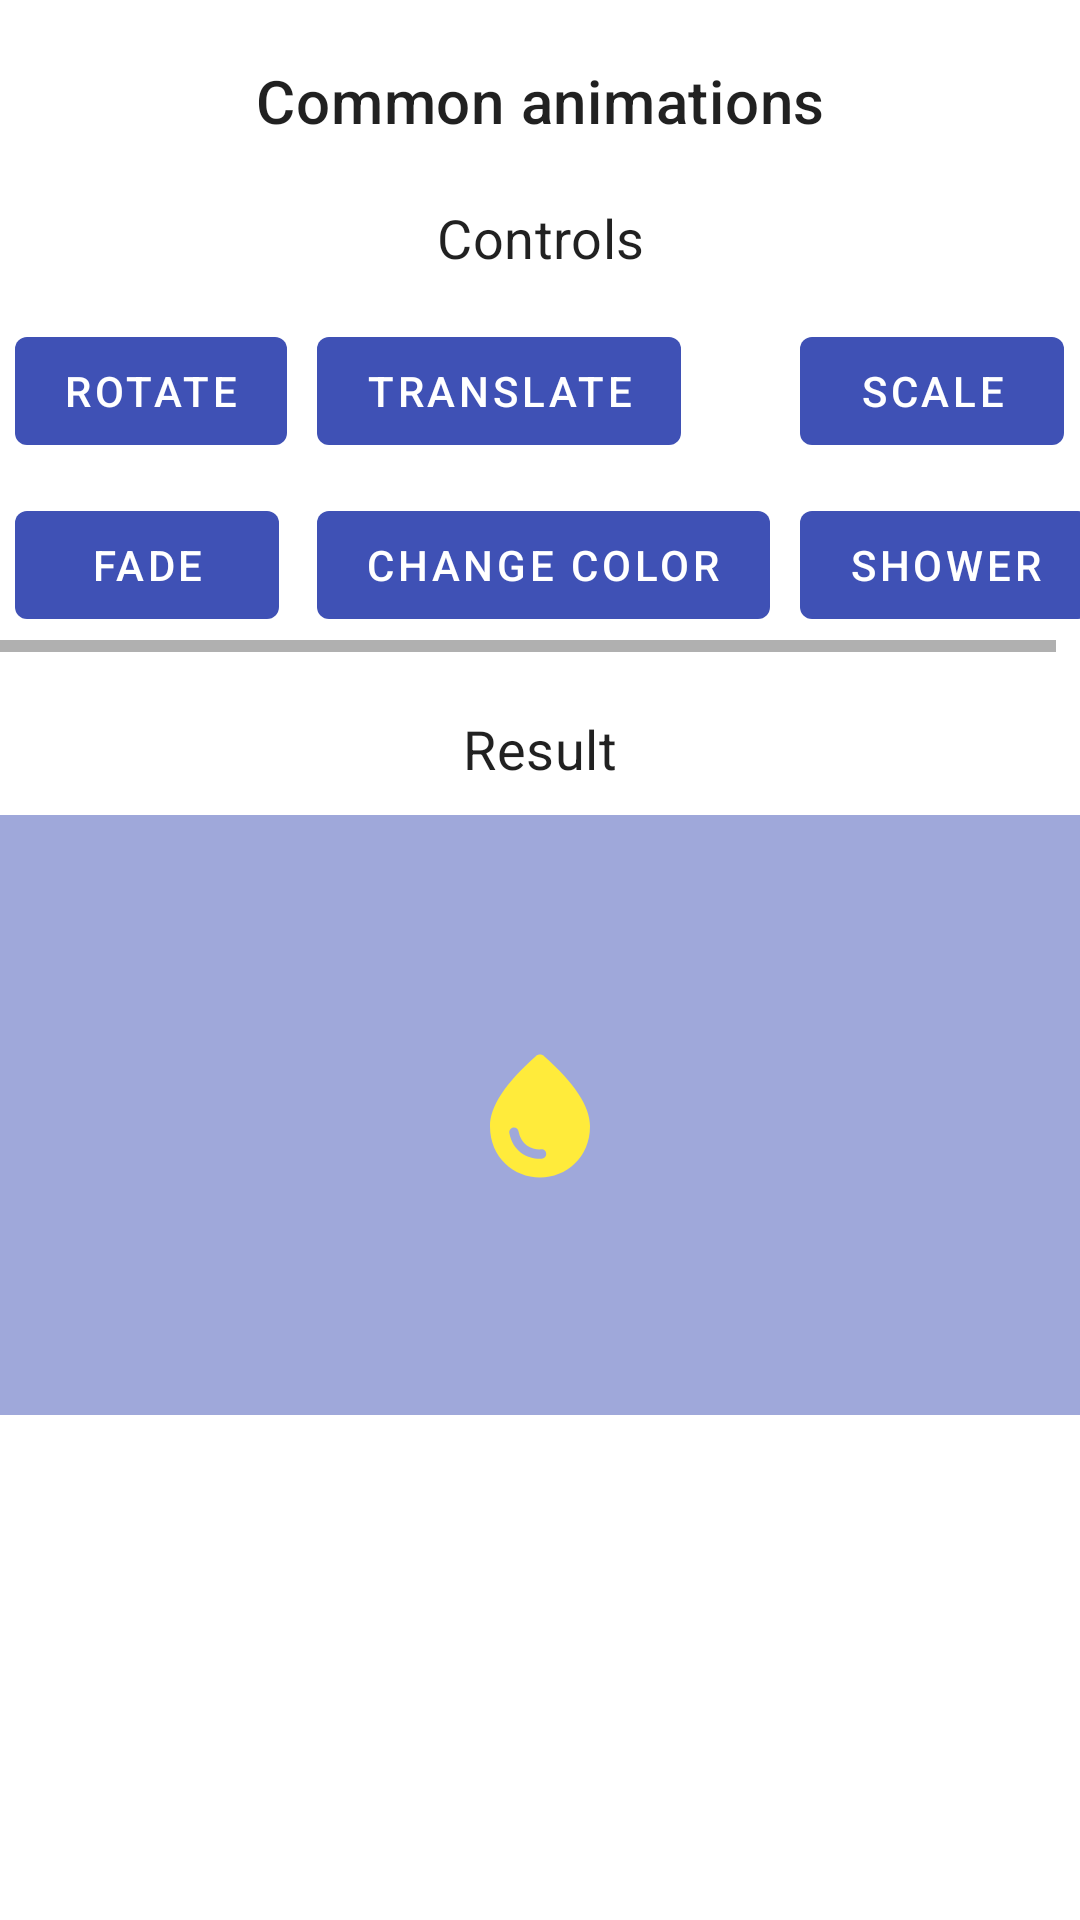

Named icons in this screenshot (1080×1920) and their bounding boxes, bbox=[x1, y1, x2, y2]:
water drop: bbox=[490, 1054, 590, 1178]
